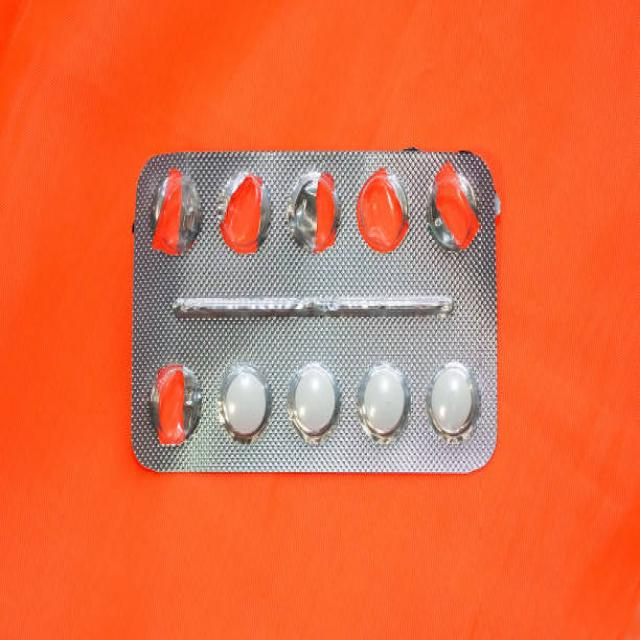Empty: (141, 346, 207, 456), (210, 155, 278, 261), (142, 164, 207, 265), (422, 157, 487, 255), (284, 160, 345, 264), (354, 157, 412, 262)
Pill: (216, 351, 272, 458), (420, 351, 483, 446), (286, 352, 342, 455), (356, 349, 409, 456)
